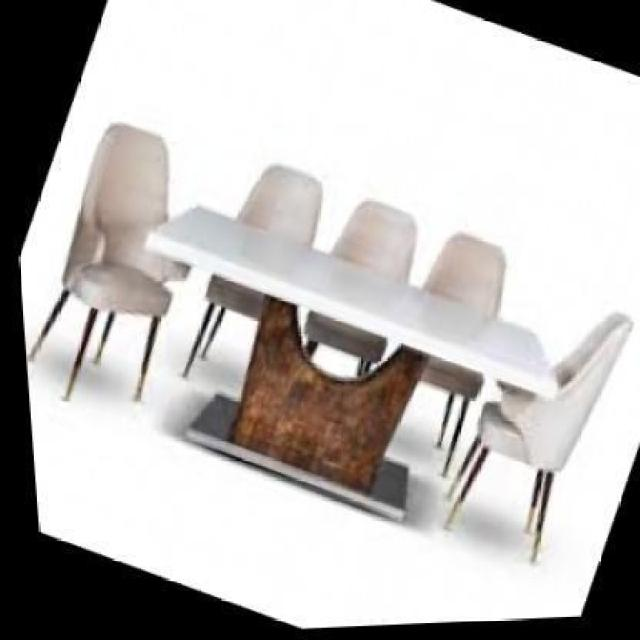tables: (143, 203, 559, 488)
